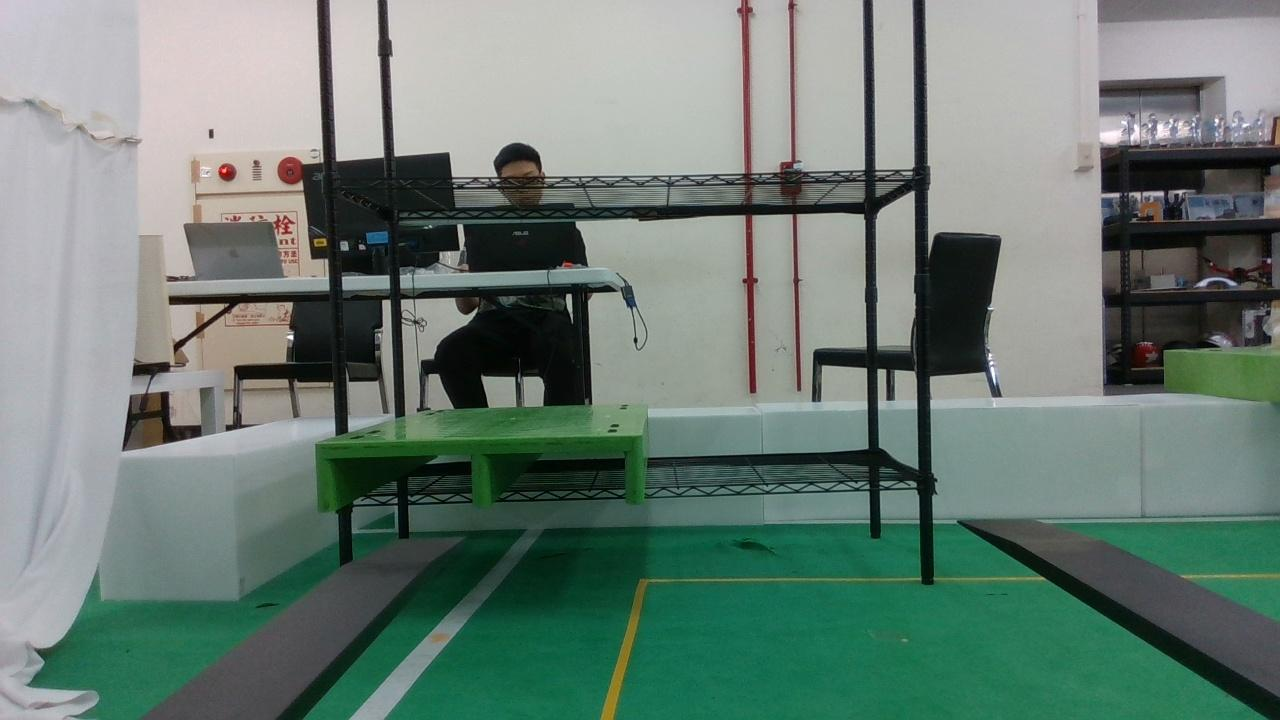Pallet: (314, 433, 647, 516)
